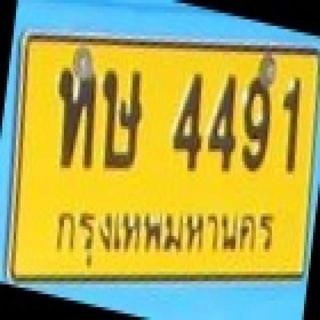A23: (51, 62, 101, 171)
A39: (100, 63, 146, 175)
N01: (275, 71, 308, 175)
N04: (170, 67, 206, 177), (208, 68, 238, 175)
N09: (241, 74, 274, 177)
P04: (46, 204, 281, 274)
